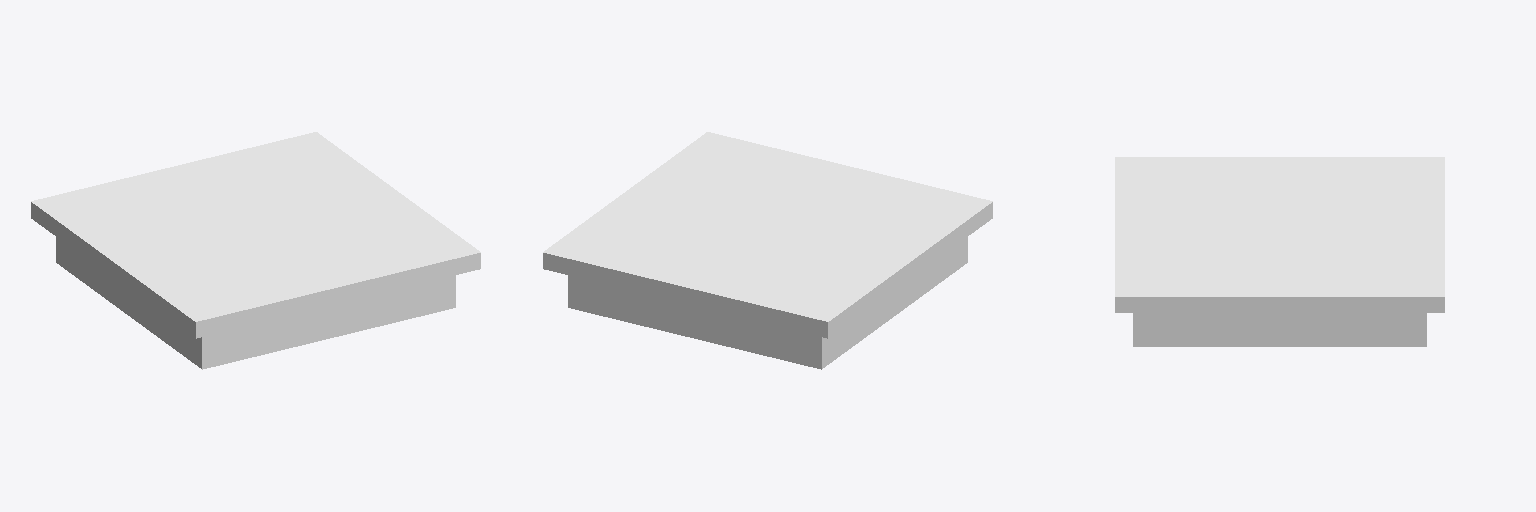
The model's file is Magma.obj.
3 renders of one model, left to right at view 1: azimuth 30°, elevation 25°; view 2: azimuth 150°, elevation 25°; view 3: azimuth 270°, elevation 25°, orthographic.
Visible parts, largest first — view 1: Magma; view 2: Magma; view 3: Magma.
Part boxes in pixels (x1,y1,x2,y2): Magma: (31,132,480,369); Magma: (543,132,992,369); Magma: (1115,157,1444,346).
Bounding box in the file's own units: 36 × 7 × 36.